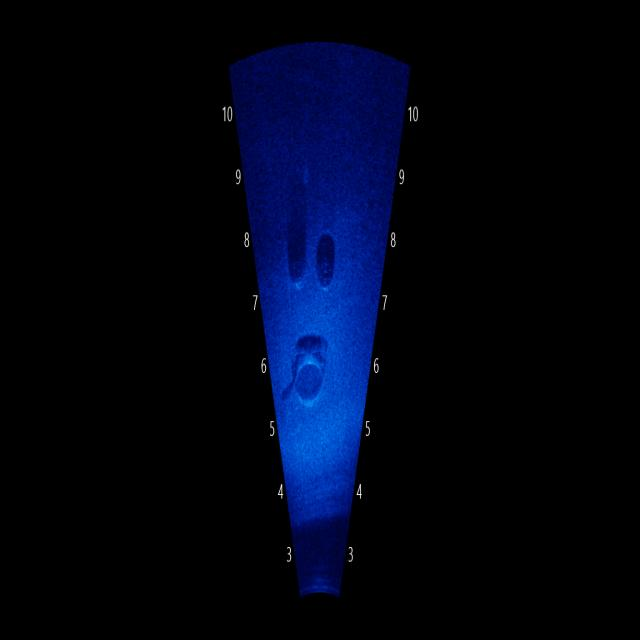circle: (294, 356, 326, 413), (318, 251, 335, 295)
